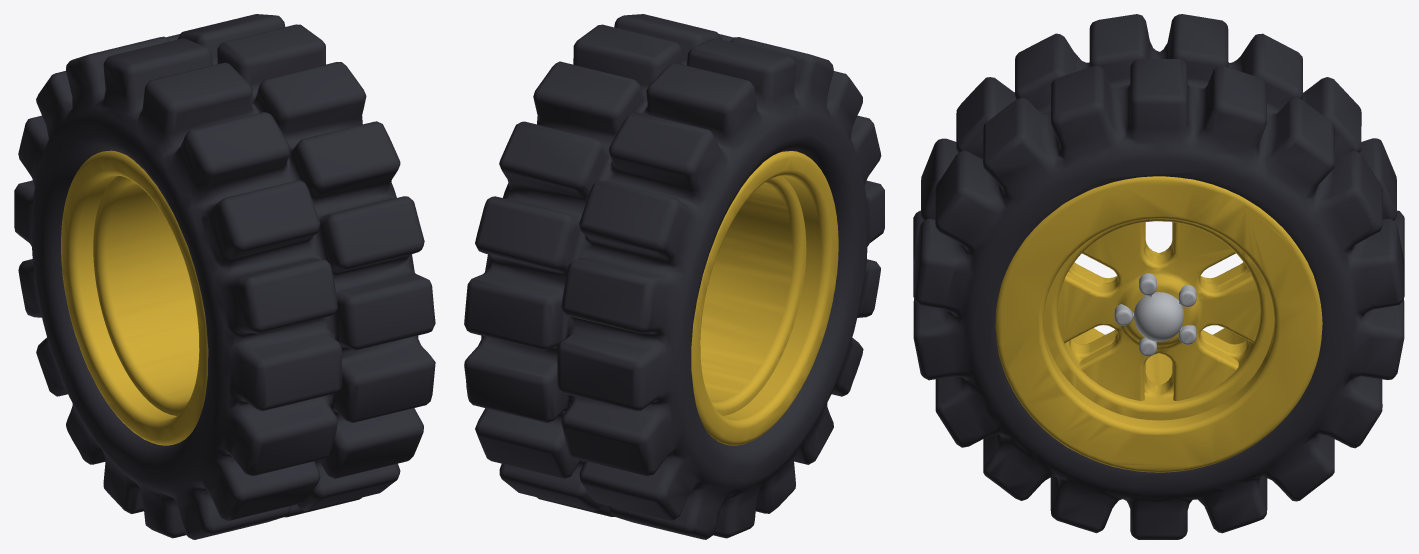
Rendered from monster.glb.
The picture shows the model from 3 angles, left to right: view 1: azimuth 30°, elevation 25°; view 2: azimuth 150°, elevation 25°; view 3: azimuth 270°, elevation 25°; orthographic projection.
Parts seen in each view (by area): view 1: wheel_rear, wheel_front; view 2: wheel_rear, wheel_front; view 3: wheel_rear, wheel_front.
Part boxes in pixels (x1=…): wheel_rear: x1=14, y1=14, x2=435, y2=539; wheel_front: x1=93, y1=175, x2=199, y2=415; wheel_rear: x1=464, y1=14, x2=884, y2=539; wheel_front: x1=700, y1=176, x2=806, y2=415; wheel_rear: x1=913, y1=14, x2=1404, y2=539; wheel_front: x1=1043, y1=218, x2=1274, y2=420.
Size of the model in its own units: 0.284 by 0.6 by 0.6.
